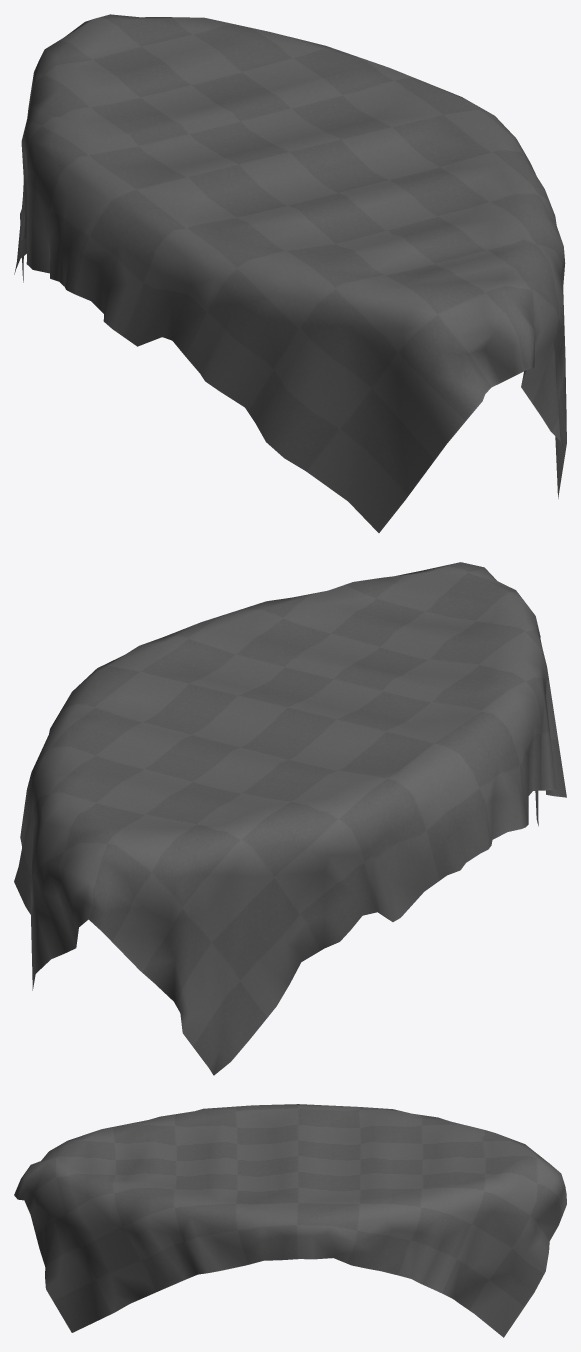
File: LifeBoatTarp.glb
The picture shows the model from 3 angles, top to bottom: view 1: azimuth 30°, elevation 25°; view 2: azimuth 150°, elevation 25°; view 3: azimuth 270°, elevation 25°; orthographic projection. The views are drawn at different scales.
Parts seen in each view (by area): view 1: LifeBoatTarp; view 2: LifeBoatTarp; view 3: LifeBoatTarp.
Part boxes in pixels (left/top/right/bottom): LifeBoatTarp: left=14, top=14, right=566, bottom=532; LifeBoatTarp: left=14, top=562, right=566, bottom=1075; LifeBoatTarp: left=14, top=1104, right=566, bottom=1337.
Size of the model in its own units: 2.99 by 1.62 by 5.31.
1 material, 1 textured.
